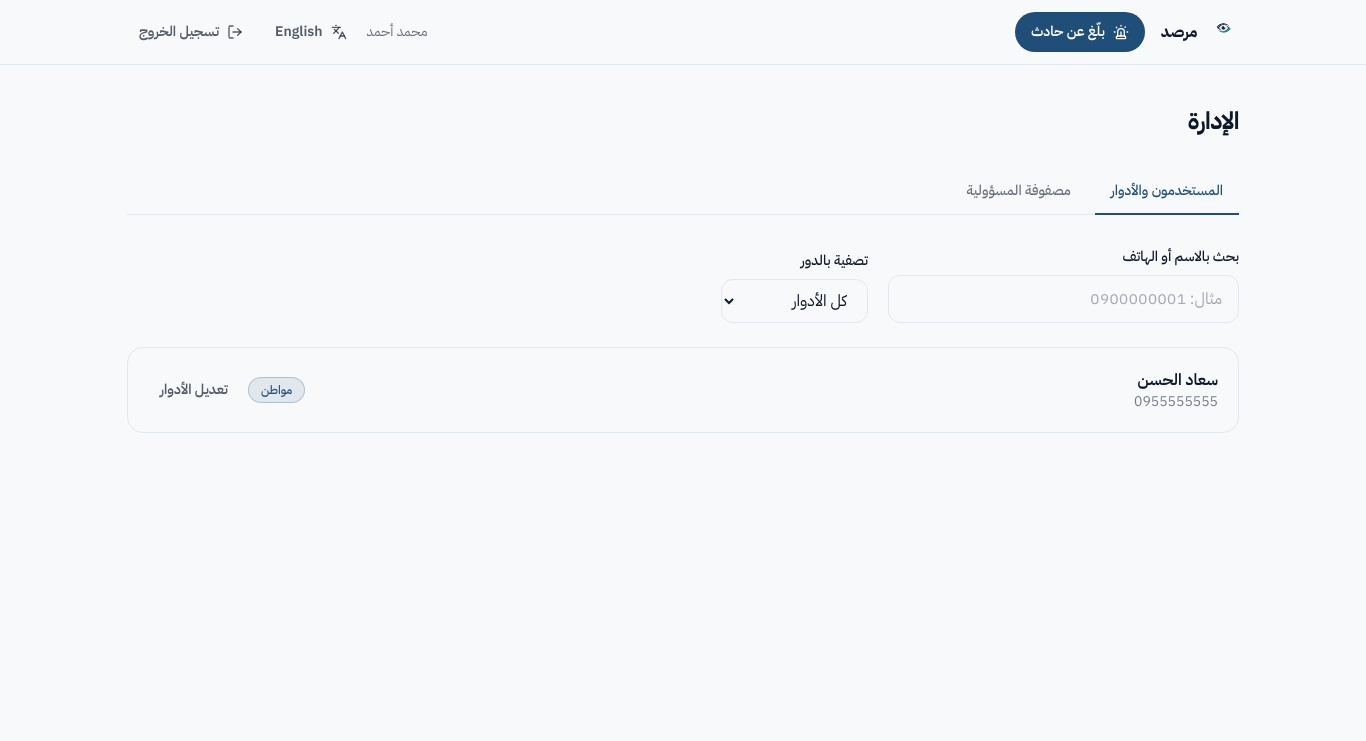
Test case: the liability matrix › blocks a split that does not total 100
Click the tab "مصفوفة المسؤولية" at point(1019, 192), box [950,169,1087,215]
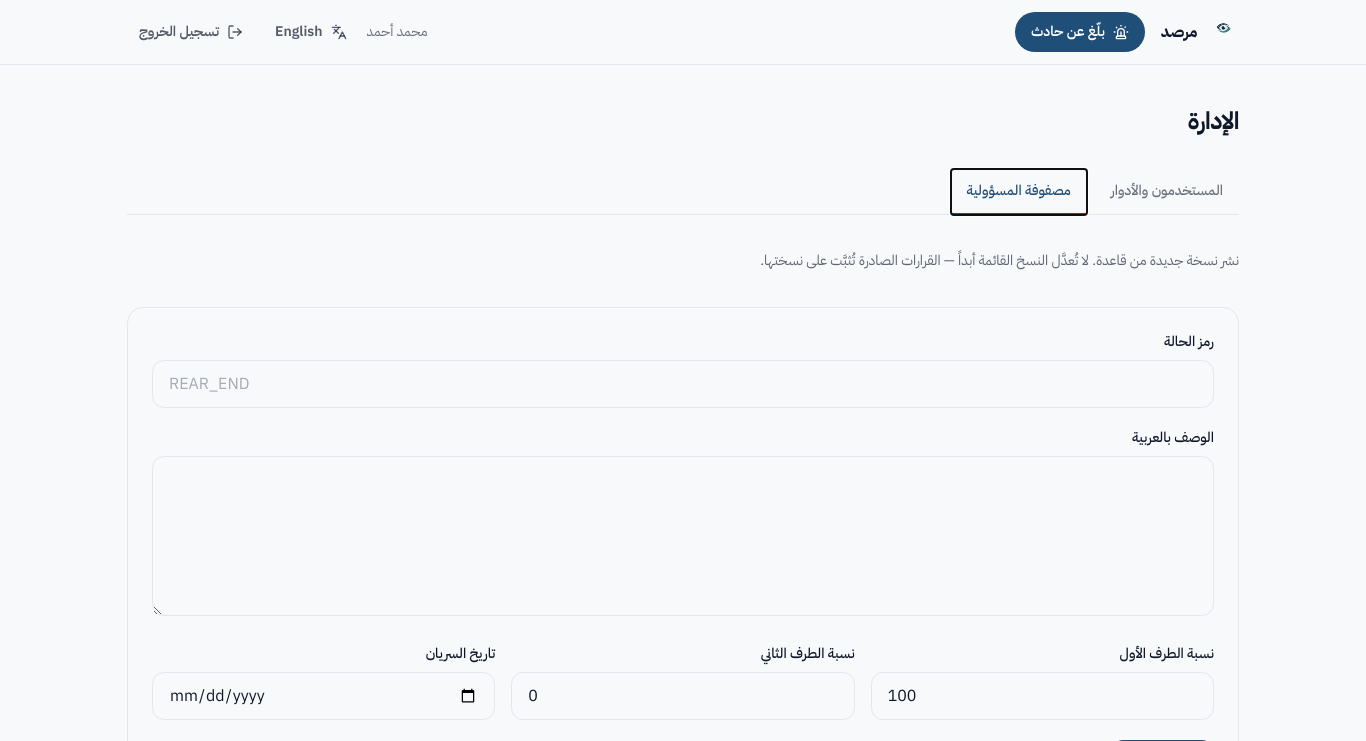
Replace the text in the field labelled "نسبة الطرف الثاني" with "40" at point(683, 696), box [511,672,855,720]
(page scrolled)
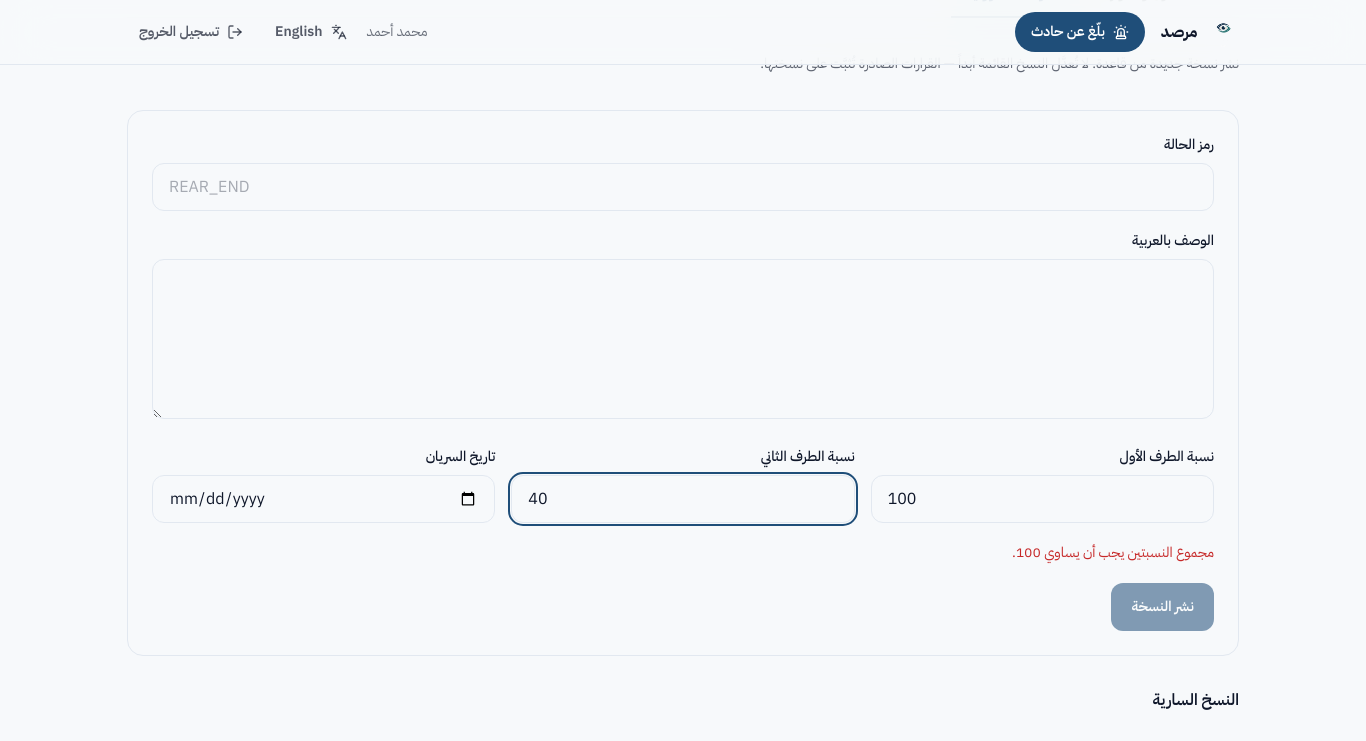
expect the button "نشر النسخة" is disabled: met, box [1112,583,1214,631]
